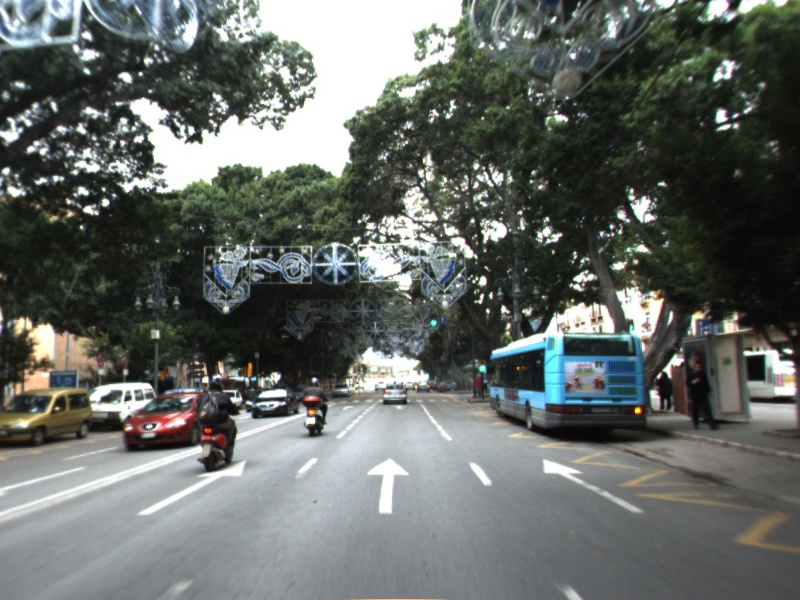STRAIGHT: (135, 458, 249, 517), (540, 456, 648, 516), (364, 456, 412, 515)
